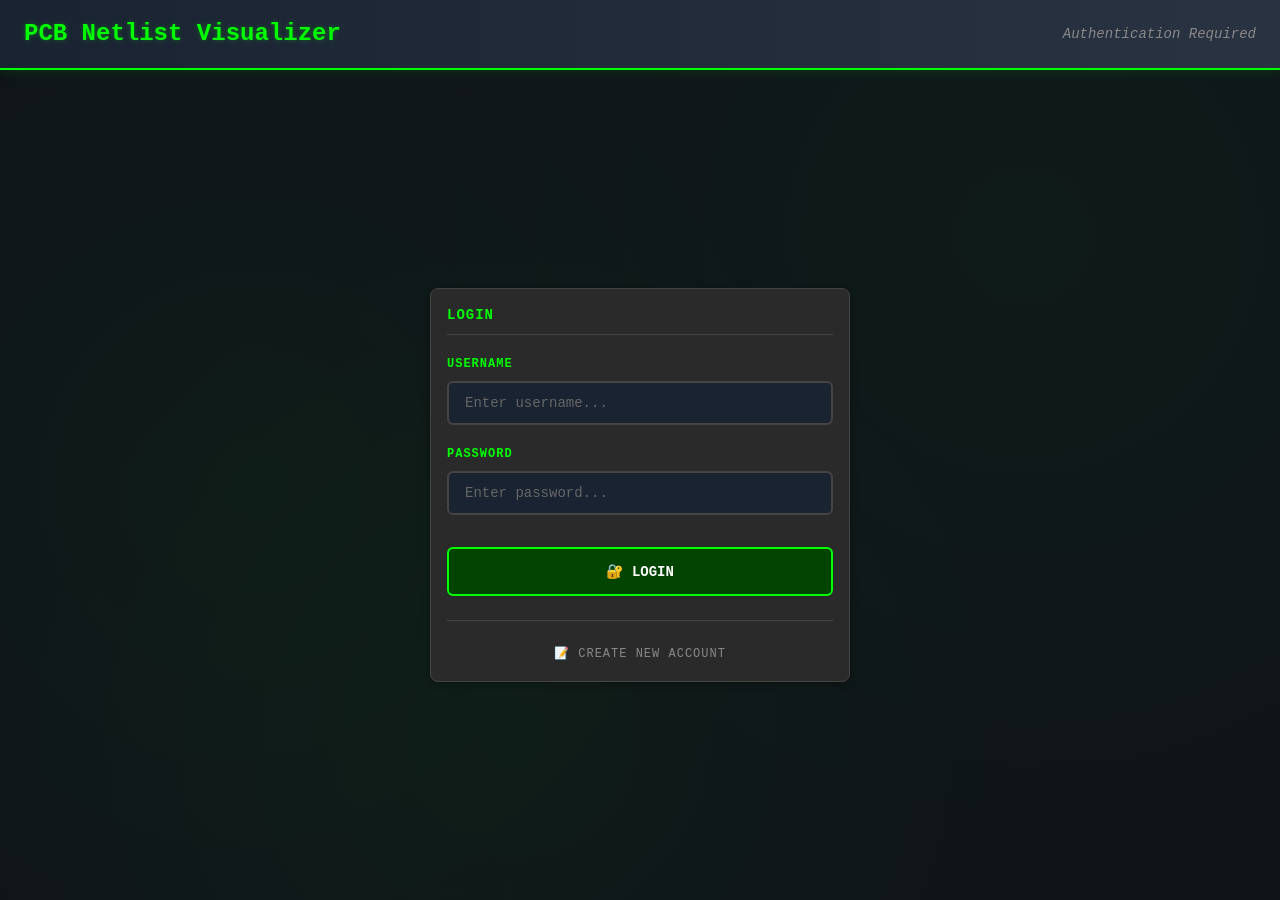
LoginPage › should display generic error message when error has no message
This screenshot has width=1280, height=900.
Type "testuser" into the field with placeholder "Enter username...".
click(640, 403); type("testuser")  # box [447,381,833,425]
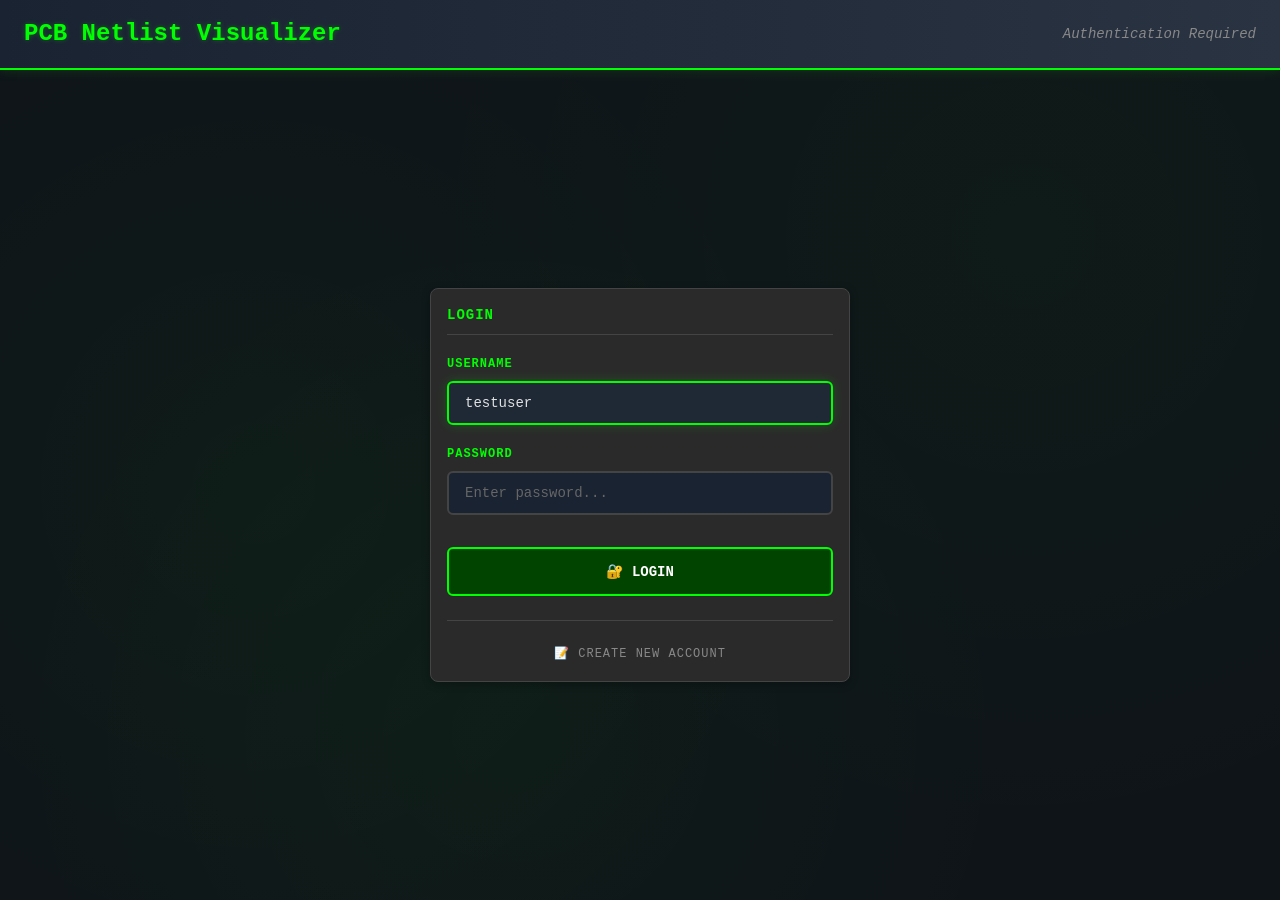
Type "testpass" into the password field with placeholder "Enter password...".
click(640, 493); type("testpass")  # box [447,471,833,515]
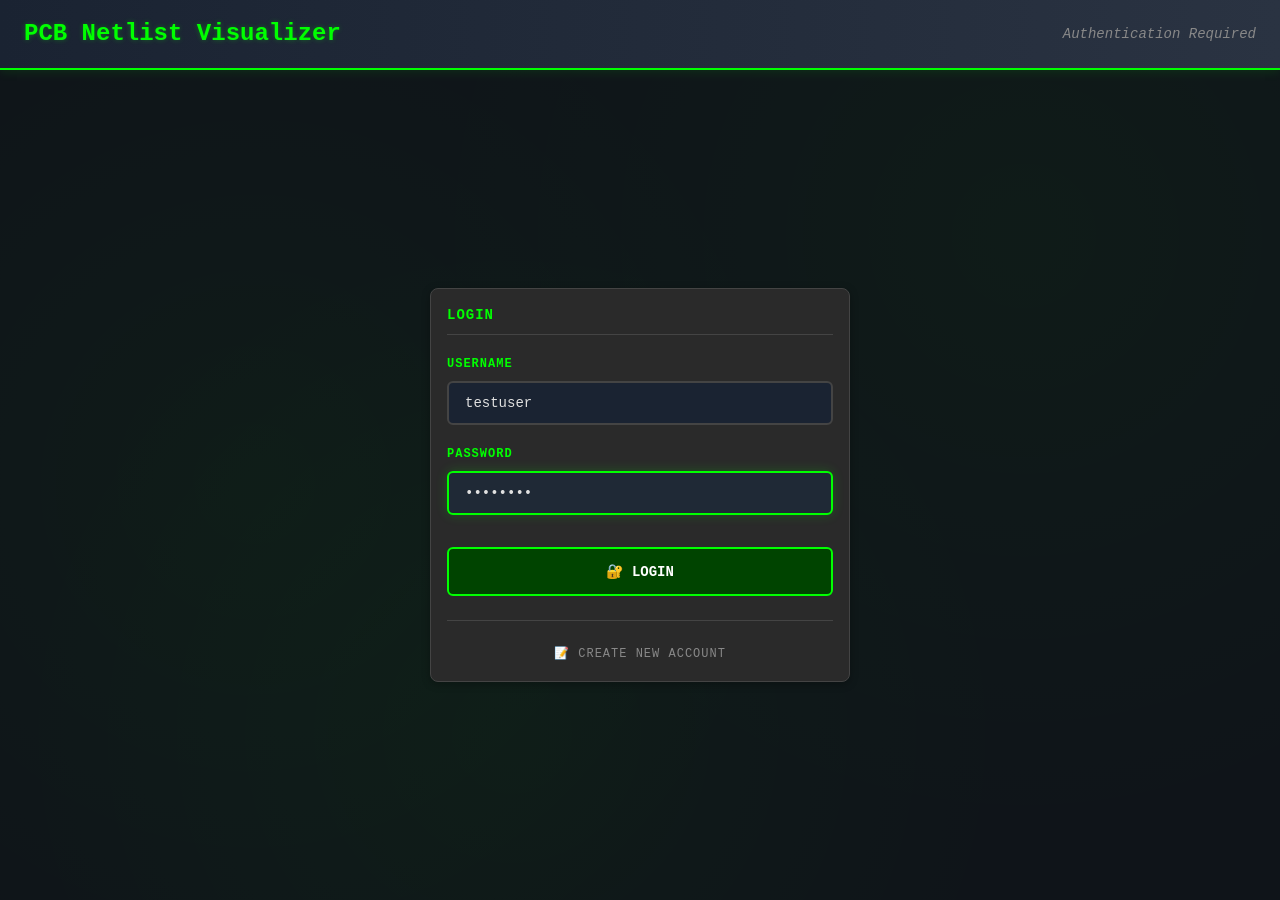
Click the button "🔐 Login".
click(640, 572)  # box [447,547,833,596]
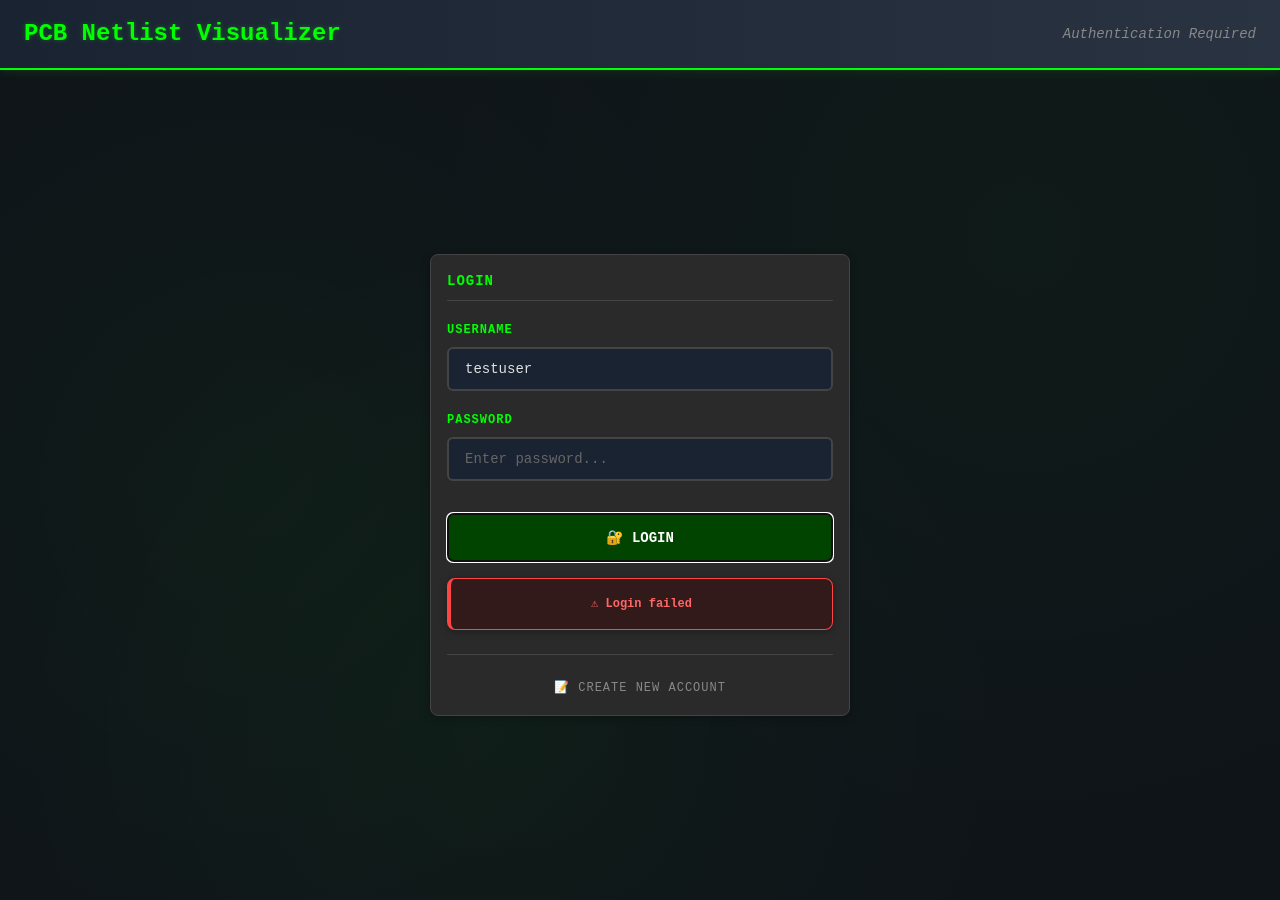
Expected: the text "⚠ Login failed" is shown, [591,597,692,611]
